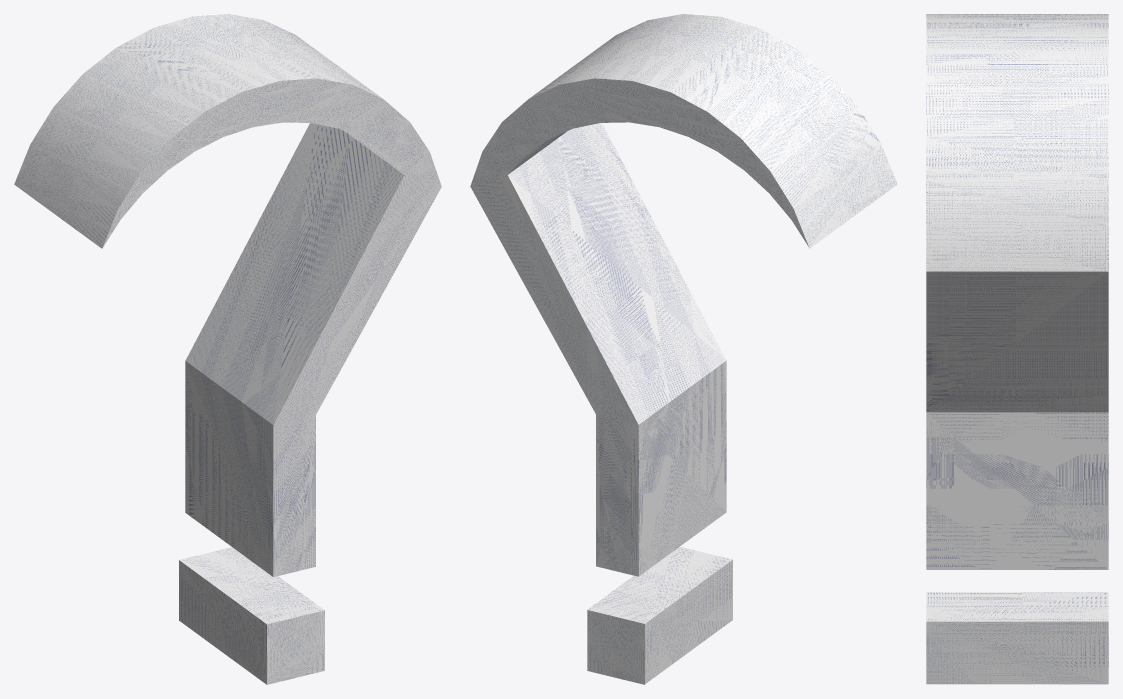
3 renders of one model, left to right at view 1: azimuth 30°, elevation 25°; view 2: azimuth 150°, elevation 25°; view 3: azimuth 270°, elevation 25°, orthographic. The views are drawn at different scales.
Parts seen in each view (by area): view 1: SketchUp (×2); view 2: SketchUp (×2); view 3: SketchUp (×2).
Boxes of the visible parts, x1=… form: SketchUp (×2): x1=14, y1=14, x2=441, y2=684; SketchUp (×2): x1=470, y1=14, x2=897, y2=684; SketchUp (×2): x1=926, y1=14, x2=1108, y2=684.
Size of the model in its own units: 201 by 90.25 by 340.
